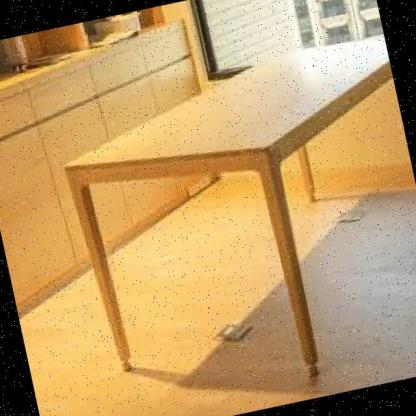Table: (28, 25, 416, 416)
